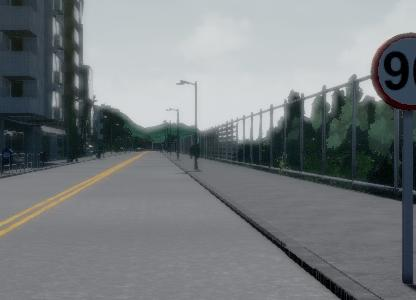Speed_90: (369, 29, 416, 112)
